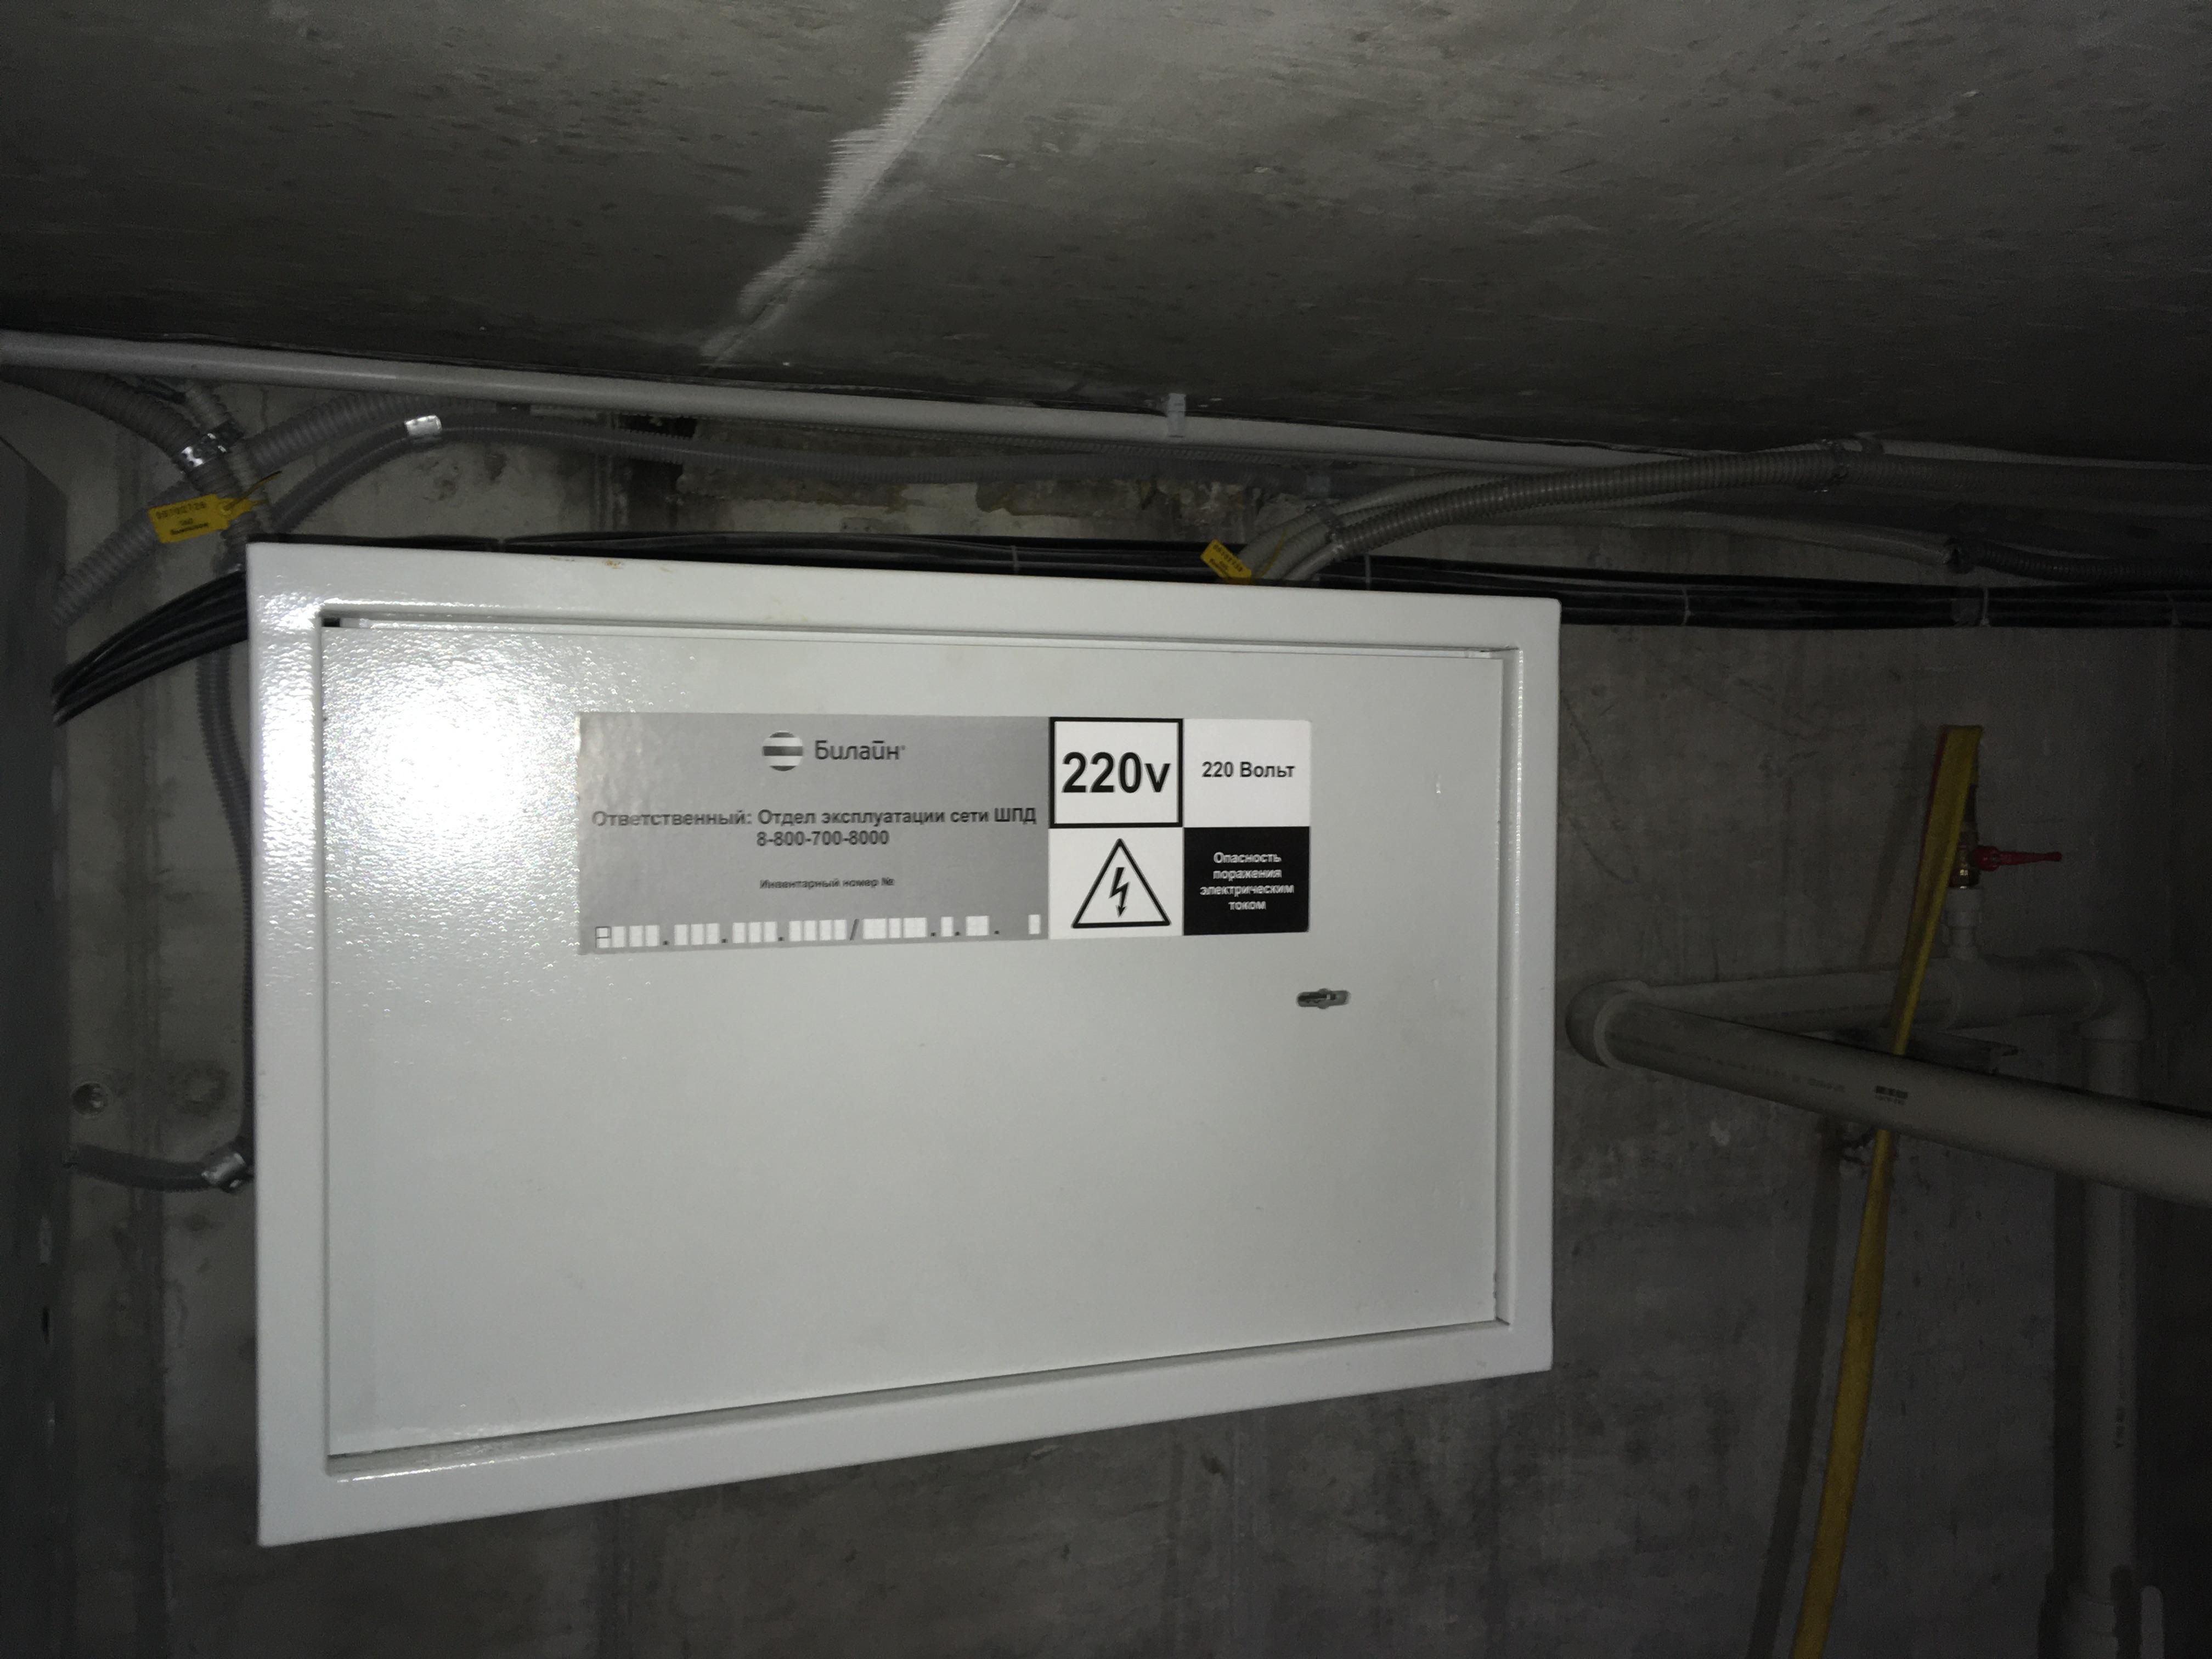shta-7m: (216, 512, 1590, 1565)
